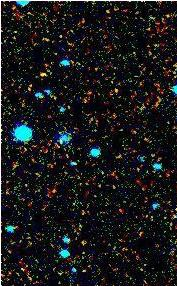star: (28, 62, 58, 92)
